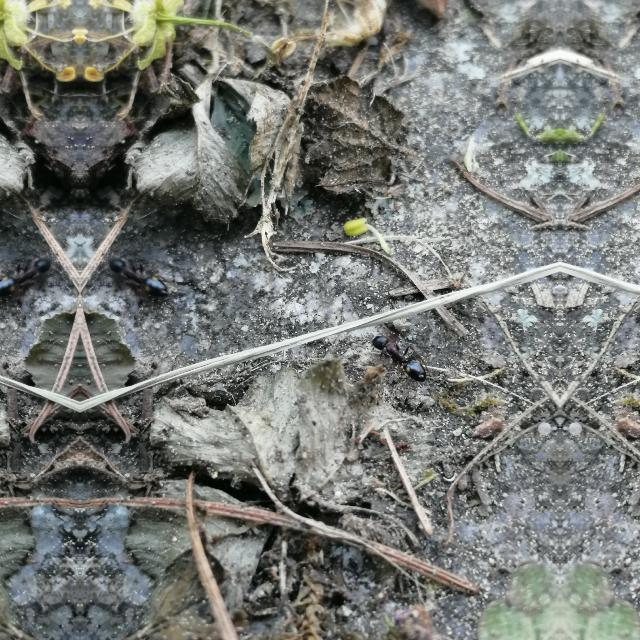Dolichoderus: (366, 319, 434, 389), (101, 246, 172, 306), (0, 246, 58, 306)
